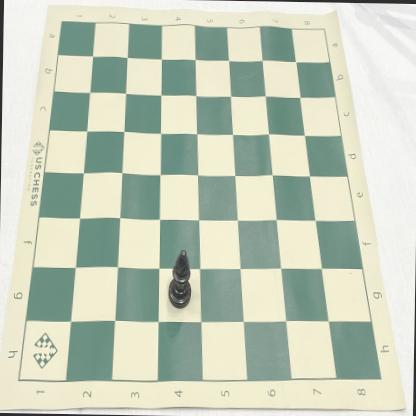black-bishop: (168, 249, 192, 308)
